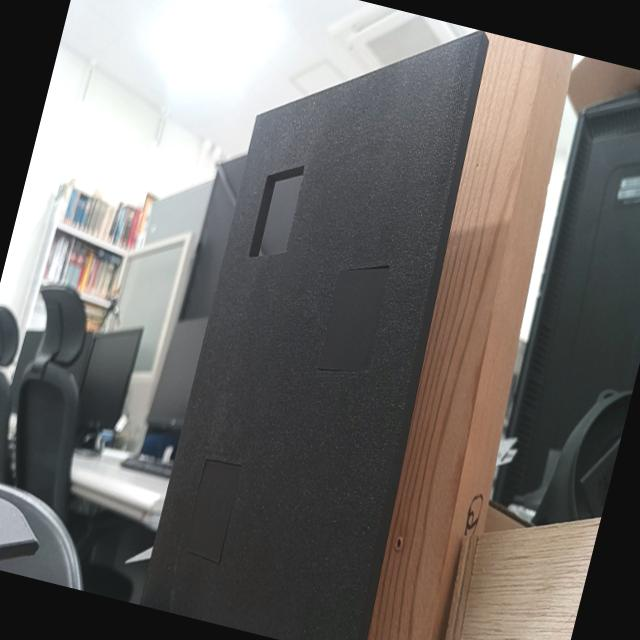Obstacle: (246, 164, 304, 255)
Wall: (138, 32, 482, 640)
